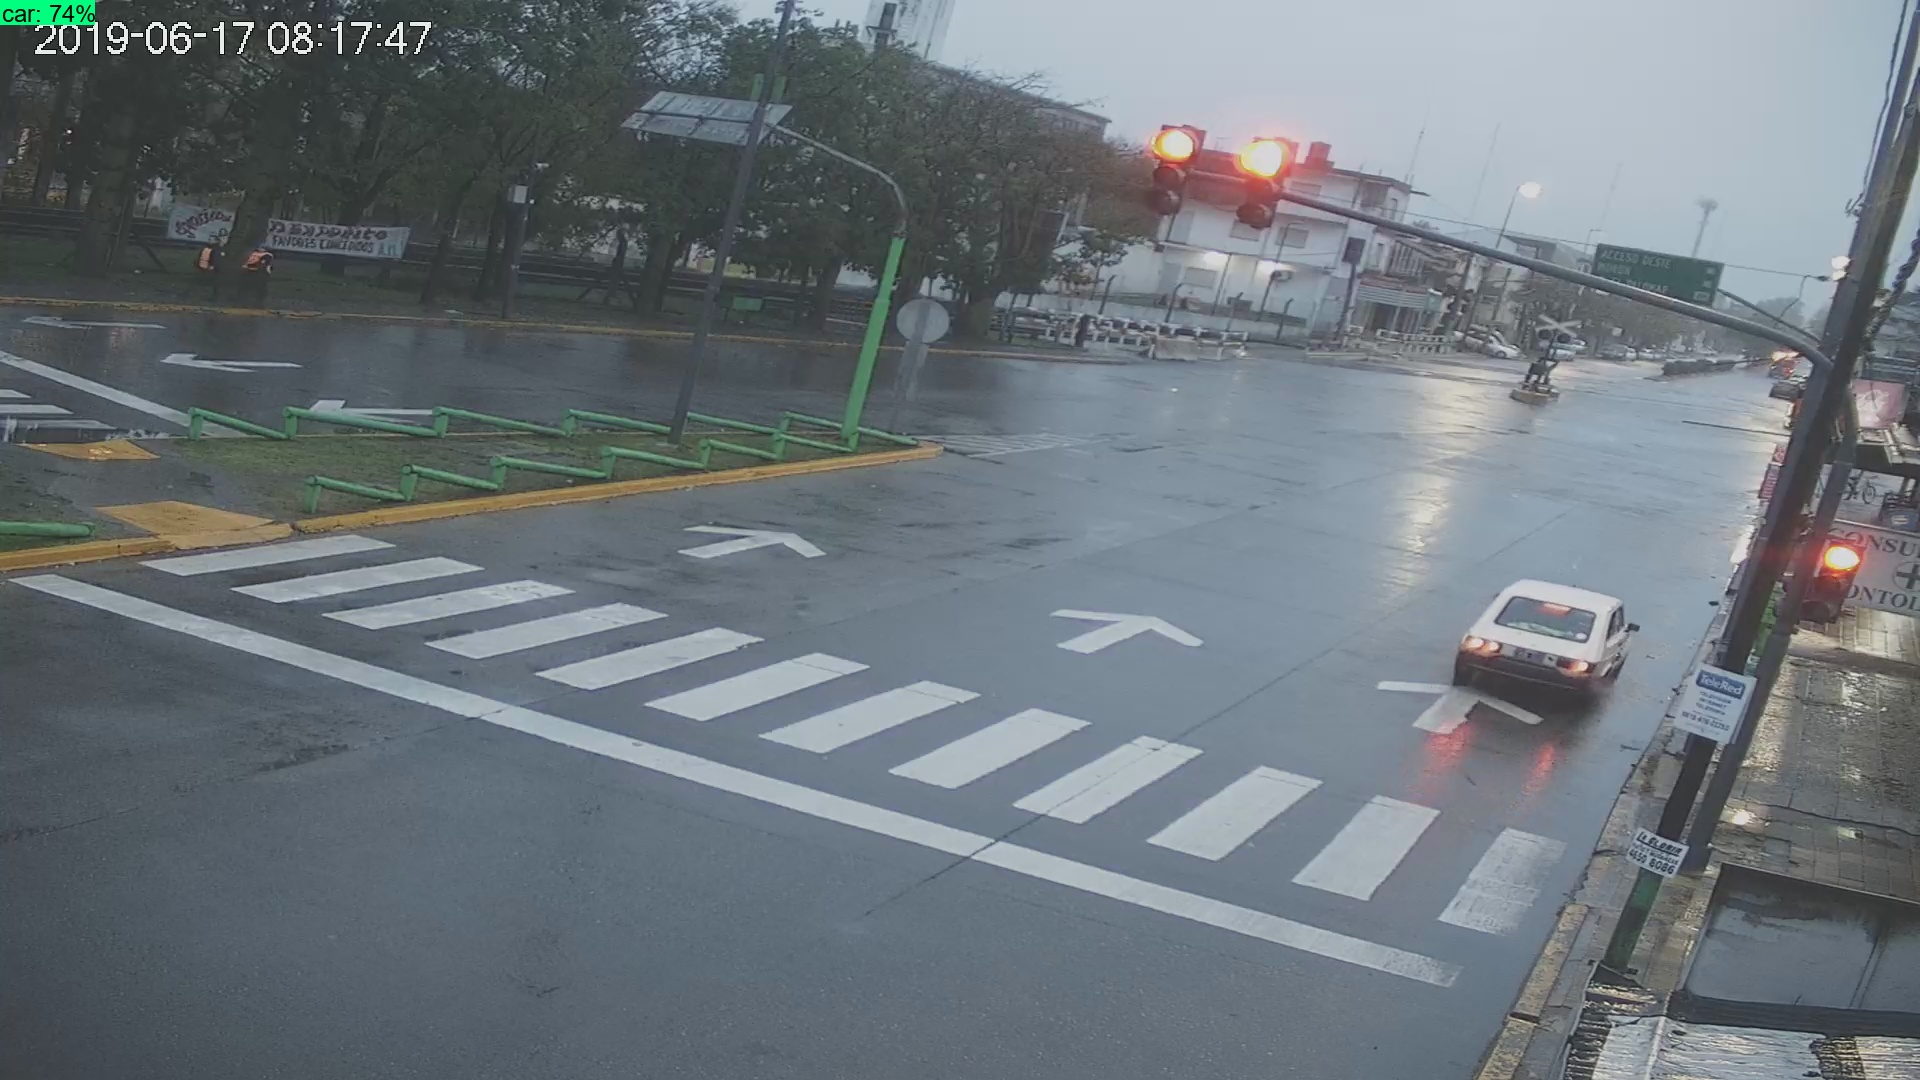car: (1425, 563, 1648, 704)
